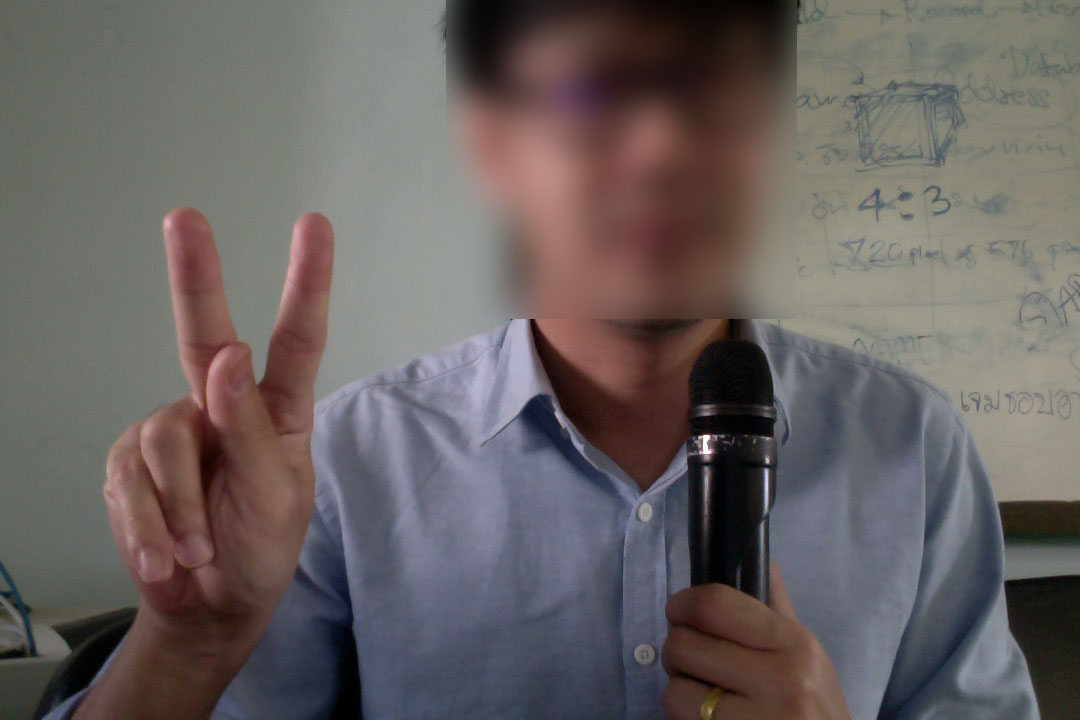ko: (88, 199, 349, 614)
